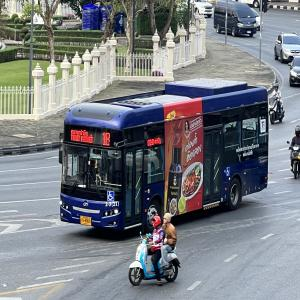Bus Line Number: (99, 128, 114, 149)
Bus Side Number: (104, 199, 120, 208)
Destination Sign: (69, 126, 97, 146)
TSB-Bus: (59, 83, 269, 233)
